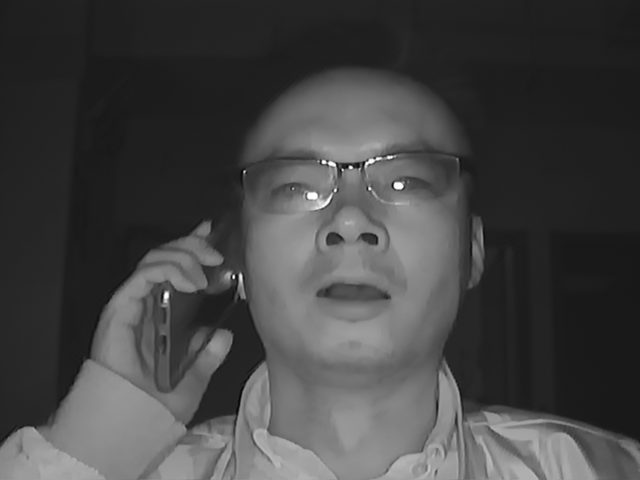hand: (96, 221, 234, 408)
